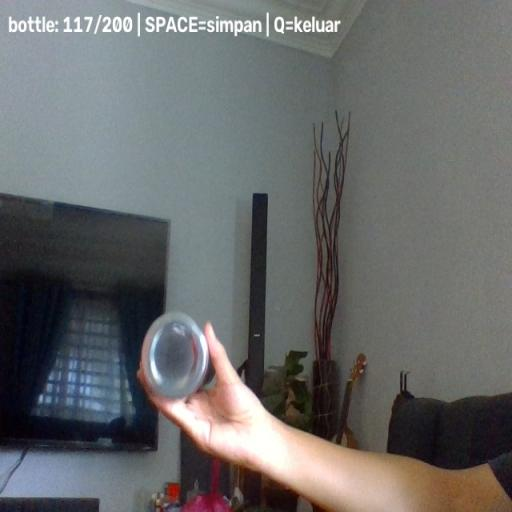Bottle: (140, 311, 215, 402)
